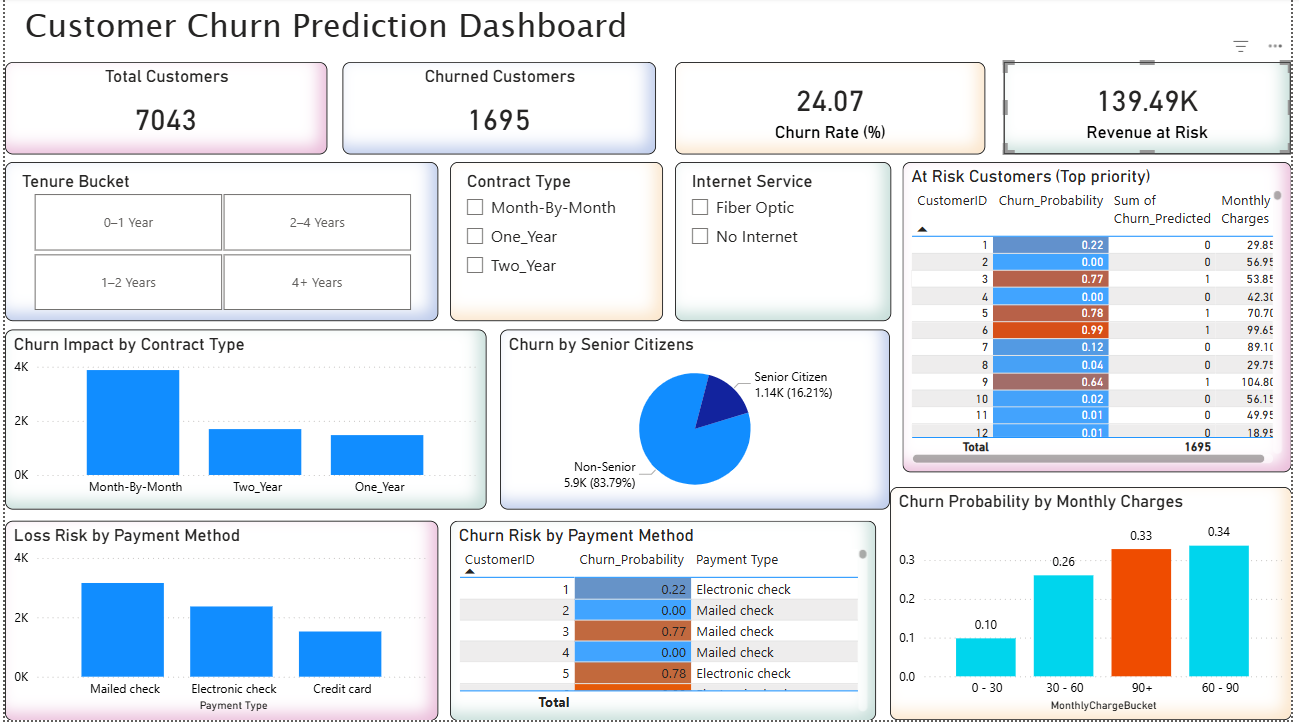

The page's visual inventory and layout, read from the dashboard file:
{"tool":"powerbi","page":{"name":"Page 1","canvas":[1280,720],"ordinal":0},"visuals":[{"type":"card","title":"Churned Customers","fields":{"Values":["Sum(Customer_Churn_Predictions.Total Churn)"]},"box":[336.3,65,311.8,92.4],"z":0},{"type":"card","fields":{"Values":["Customer_Churn_Predictions.Churn Rate (%)"]},"box":[666.8,65,308.9,92.4],"z":1000},{"type":"slicer","fields":{"Values":["Customer_Churn_Predictions.Contract Type"]},"box":[443.1,164.5,212.2,158.8],"z":3000},{"type":"columnChart","title":"Churn Impact by Contract Type","fields":{"Y":["CountNonNull(Customer_Churn_Predictions.Churn_Predicted)"],"Category":["Customer_Churn_Predictions.Contract Type"]},"box":[0,330.5,479.2,179],"z":4000},{"type":"columnChart","title":"Loss Risk by Payment Method","fields":{"Category":["Customer_Churn_Predictions.Payment Type"],"Y":["CountNonNull(Customer_Churn_Predictions.Churn_Predicted)"]},"box":[0,521.1,431.6,199.2],"z":5000},{"type":"clusteredColumnChart","title":"Churn Probability by Monthly Charges","fields":{"Category":["Customer_Churn_Predictions.MonthlyChargeBucket"],"Y":["Avg(Customer_Churn_Predictions.Churn)"]},"box":[880.5,487.9,399.8,232.4],"z":6000},{"type":"pieChart","title":"Churn by Senior Citizens","fields":{"Y":["CountNonNull(Customer_Churn_Predictions.Churn)"],"Category":["Customer_Churn_Predictions.Senior Citizen Status"]},"box":[492.2,330.5,388.3,179],"z":7000},{"type":"slicer","fields":{"Values":["Customer_Churn_Predictions.Tenure Bucket"]},"box":[0,164.5,431.6,158.8],"z":8000},{"type":"actionButton","box":[0,0,100,40],"z":9000},{"type":"slicer","fields":{"Values":["Customer_Churn_Predictions.Internet Service"]},"box":[666.8,164.5,215.1,158.8],"z":10000},{"type":"tableEx","title":"At Risk Customers (Top priority)","fields":{"Values":["Customer_Churn_Predictions.CustomerID","Customer_Churn_Predictions.Churn_Probability","Sum(Customer_Churn_Predictions.Churn_Predicted)","Customer_Churn_Predictions.MonthlyCharges"]},"box":[893.5,164.5,386.8,308.9],"z":11000},{"type":"card","title":"Total Customers","fields":{"Values":["Count(Customer_Churn_Predictions.CustomerID)"]},"box":[0,65,320.4,92.4],"z":12000},{"type":"textbox","box":[0,0,639.4,65],"z":13000},{"type":"card","fields":{"Values":["Customer_Churn_Predictions.Revenue at Risk"]},"box":[994.5,65,285.8,92.4],"z":14000},{"type":"tableEx","title":"Churn Risk by Payment Method","fields":{"Values":["Customer_Churn_Predictions.CustomerID","Customer_Churn_Predictions.Churn_Probability","Customer_Churn_Predictions.Payment Type"]},"box":[443.1,521.1,424.4,199.2],"z":15000}]}

Visuals, with their boxes in screenshot pixels (x1, y1, x2, y2), scaled from the page's 1280x720 canvas onto the 1299x727 screenshot:
"Churned Customers" card: 341,66,658,159
card - Customer_Churn_Predictions.Churn Rate (%): 677,66,990,159
slicer - Customer_Churn_Predictions.Contract Type: 450,166,665,326
"Churn Impact by Contract Type" columnChart: 0,334,486,514
"Loss Risk by Payment Method" columnChart: 0,526,438,726
"Churn Probability by Monthly Charges" clusteredColumnChart: 894,493,1298,726
"Churn by Senior Citizens" pieChart: 500,334,894,514
slicer - Customer_Churn_Predictions.Tenure Bucket: 0,166,438,326
actionButton: 0,0,101,40
slicer - Customer_Churn_Predictions.Internet Service: 677,166,895,326
"At Risk Customers (Top priority)" tableEx: 907,166,1298,478
"Total Customers" card: 0,66,325,159
textbox: 0,0,649,66
card - Customer_Churn_Predictions.Revenue at Risk: 1009,66,1298,159
"Churn Risk by Payment Method" tableEx: 450,526,880,726
